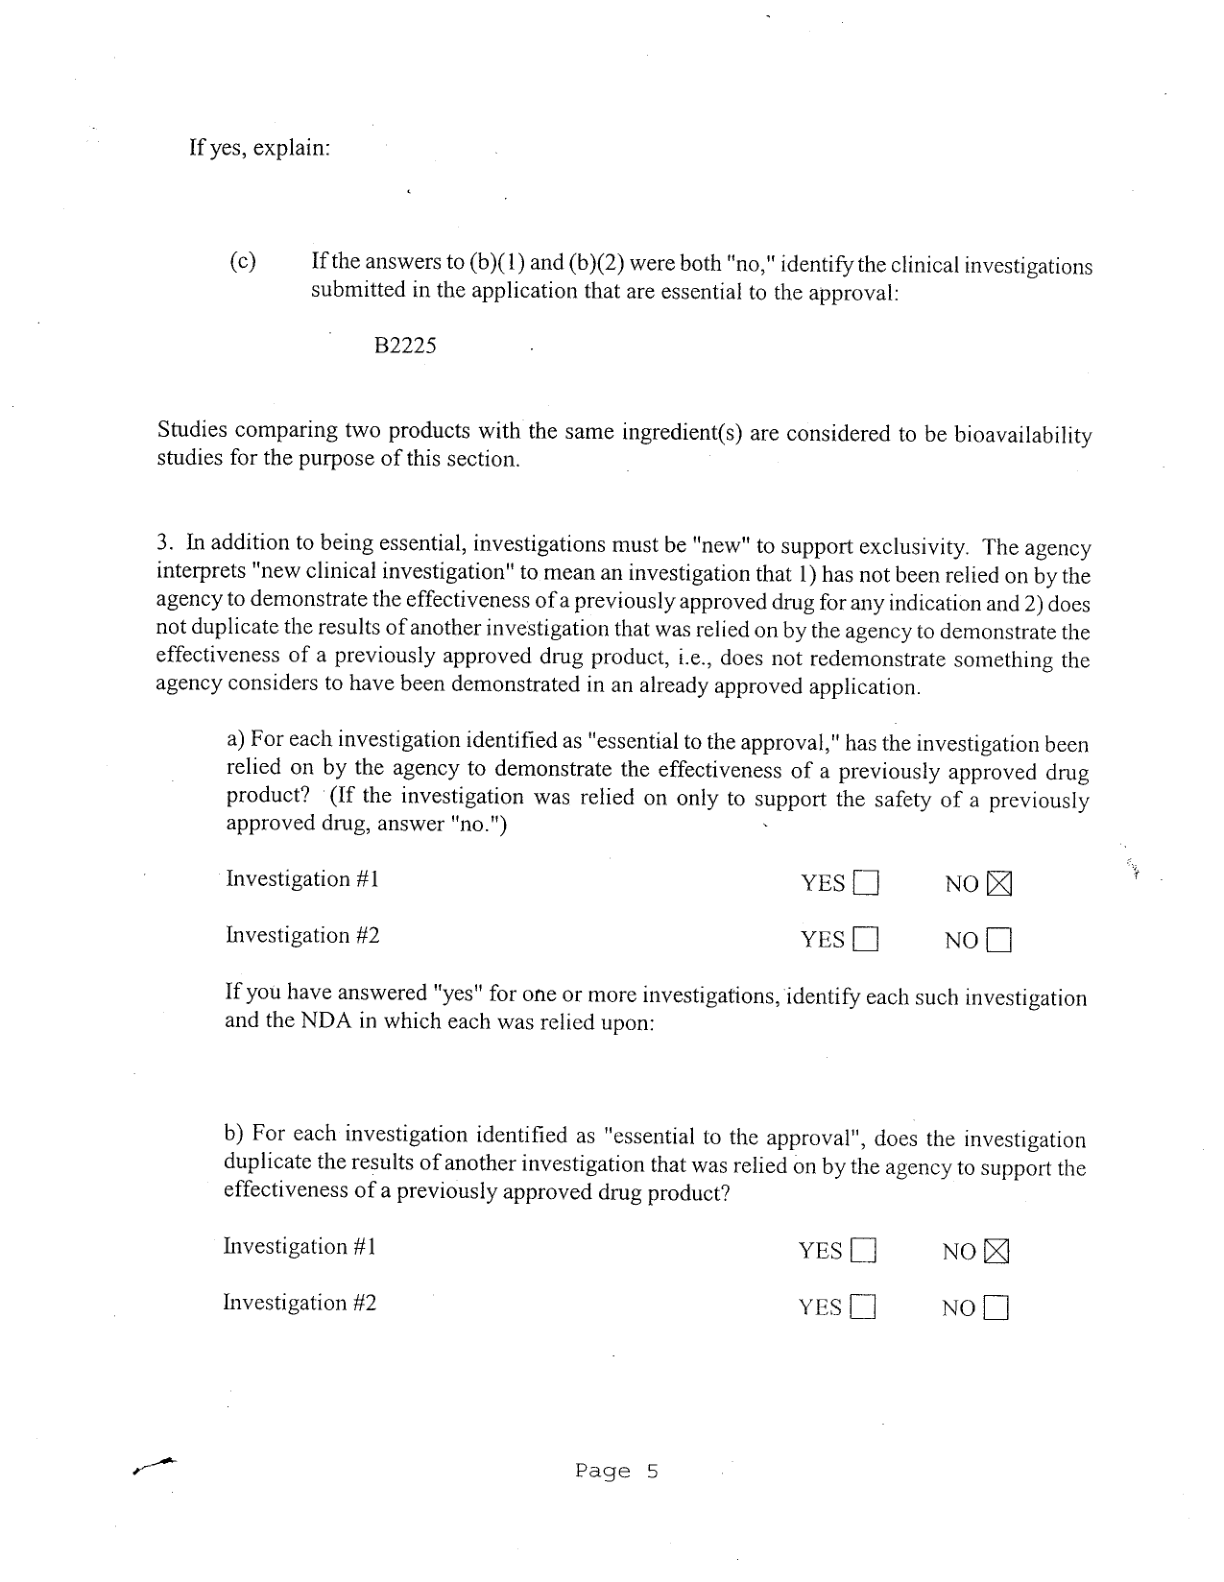nolines: (221, 862, 1016, 959), (221, 1231, 1013, 1328)
